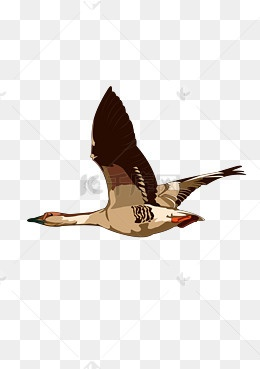bird: (25, 85, 249, 241)
